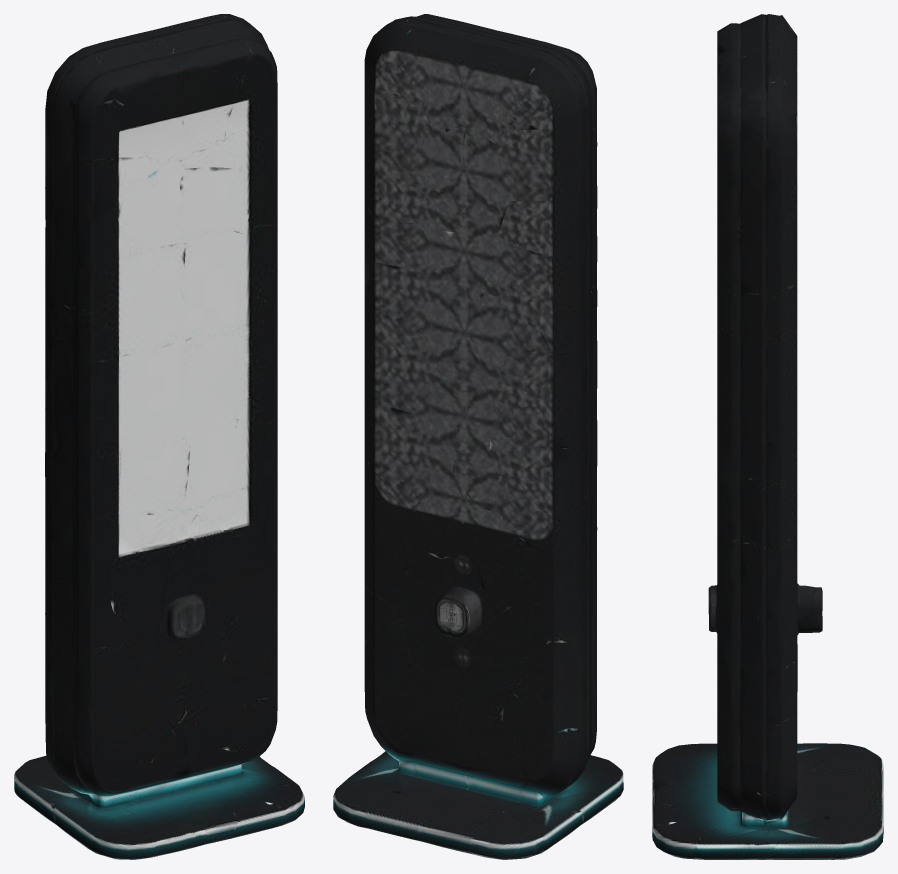
File: kiosk_p.glb
3 views of the same model, side by side, from view 1: azimuth 30°, elevation 25°; view 2: azimuth 150°, elevation 25°; view 3: azimuth 270°, elevation 25° (orthographic).
Size of the model in its own units: 0.5603 by 1.9 by 0.5227.
Materials: 1 (1 with a texture image).
